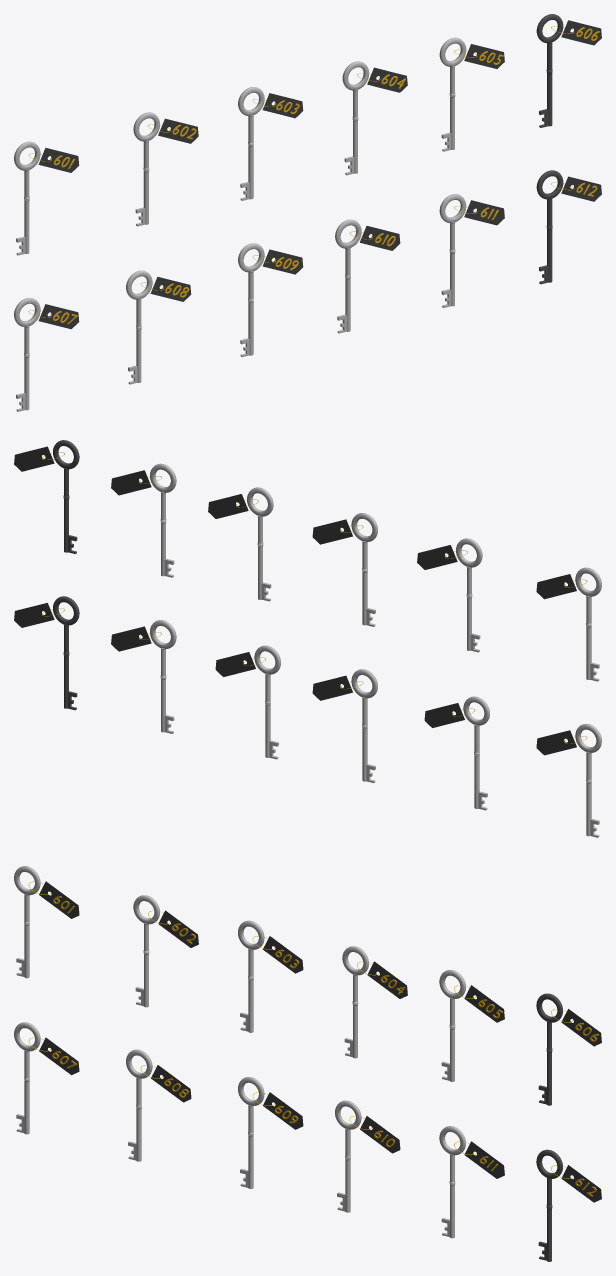
Rendered from realkey_V4.fbx.
3 views of the same model, one above another, from view 1: azimuth 30°, elevation 25°; view 2: azimuth 150°, elevation 25°; view 3: azimuth 330°, elevation 25° (orthographic).
Visible parts, largest first — view 1: key612, key606, key608, key601, key610, key602, key603, key609, key607, key604, key611, key605; view 2: key610, key601, key608, key603, key609, key607, key605, key606, key602, key604, key612, key611; view 3: key607, key610, key608, key601, key603, key609, key611, key602, key604, key606, key605, key612.
Part boxes in pixels (x1,y1,x2,y2): key612: (536, 170, 601, 284); key606: (536, 14, 601, 127); key608: (126, 270, 191, 384); key601: (14, 141, 79, 255); key610: (335, 219, 400, 333); key602: (133, 112, 198, 226); key603: (238, 87, 303, 200); key609: (238, 243, 303, 357); key607: (14, 298, 79, 411); key604: (342, 61, 407, 175); key611: (439, 194, 504, 307); key605: (439, 37, 504, 151); key610: (215, 645, 280, 759); key601: (536, 567, 601, 681); key608: (424, 696, 489, 810); key603: (312, 513, 377, 626); key609: (312, 669, 377, 782); key607: (536, 723, 601, 837); key605: (111, 463, 176, 577); key606: (14, 440, 79, 553); key602: (417, 538, 482, 652); key604: (208, 487, 273, 601); key612: (14, 596, 79, 710); key611: (111, 620, 176, 733); key607: (14, 1022, 79, 1134); key610: (335, 1100, 400, 1212); key608: (126, 1049, 191, 1161); key601: (14, 866, 79, 978); key603: (238, 920, 303, 1032); key609: (238, 1077, 303, 1188); key611: (439, 1126, 504, 1238); key602: (133, 895, 198, 1007); key604: (342, 946, 407, 1058); key606: (536, 993, 601, 1105); key605: (439, 970, 504, 1081); key612: (536, 1149, 601, 1261).
Bounding box in the file's own units: 78.68 × 34.18 × 2.45.
